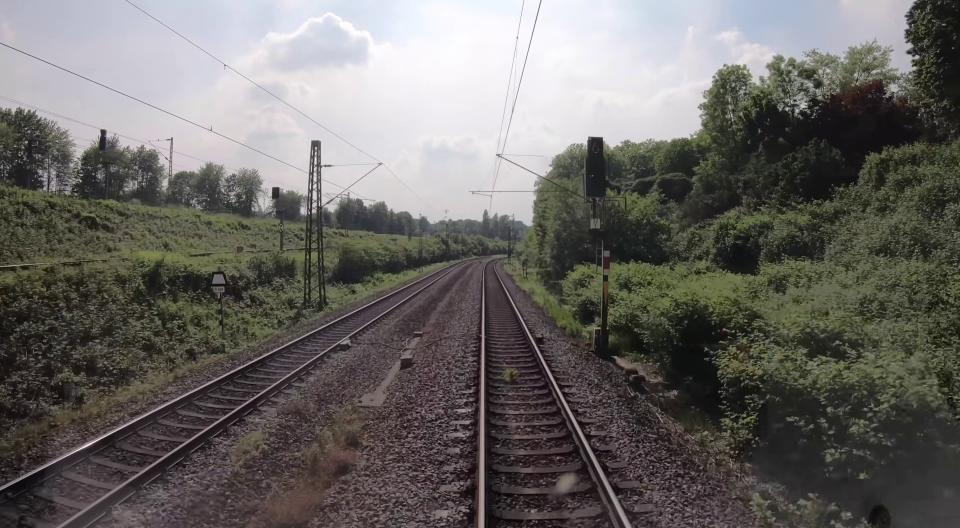Plant: (249, 414, 363, 528), (231, 429, 266, 463), (278, 400, 315, 419), (502, 367, 519, 383)
